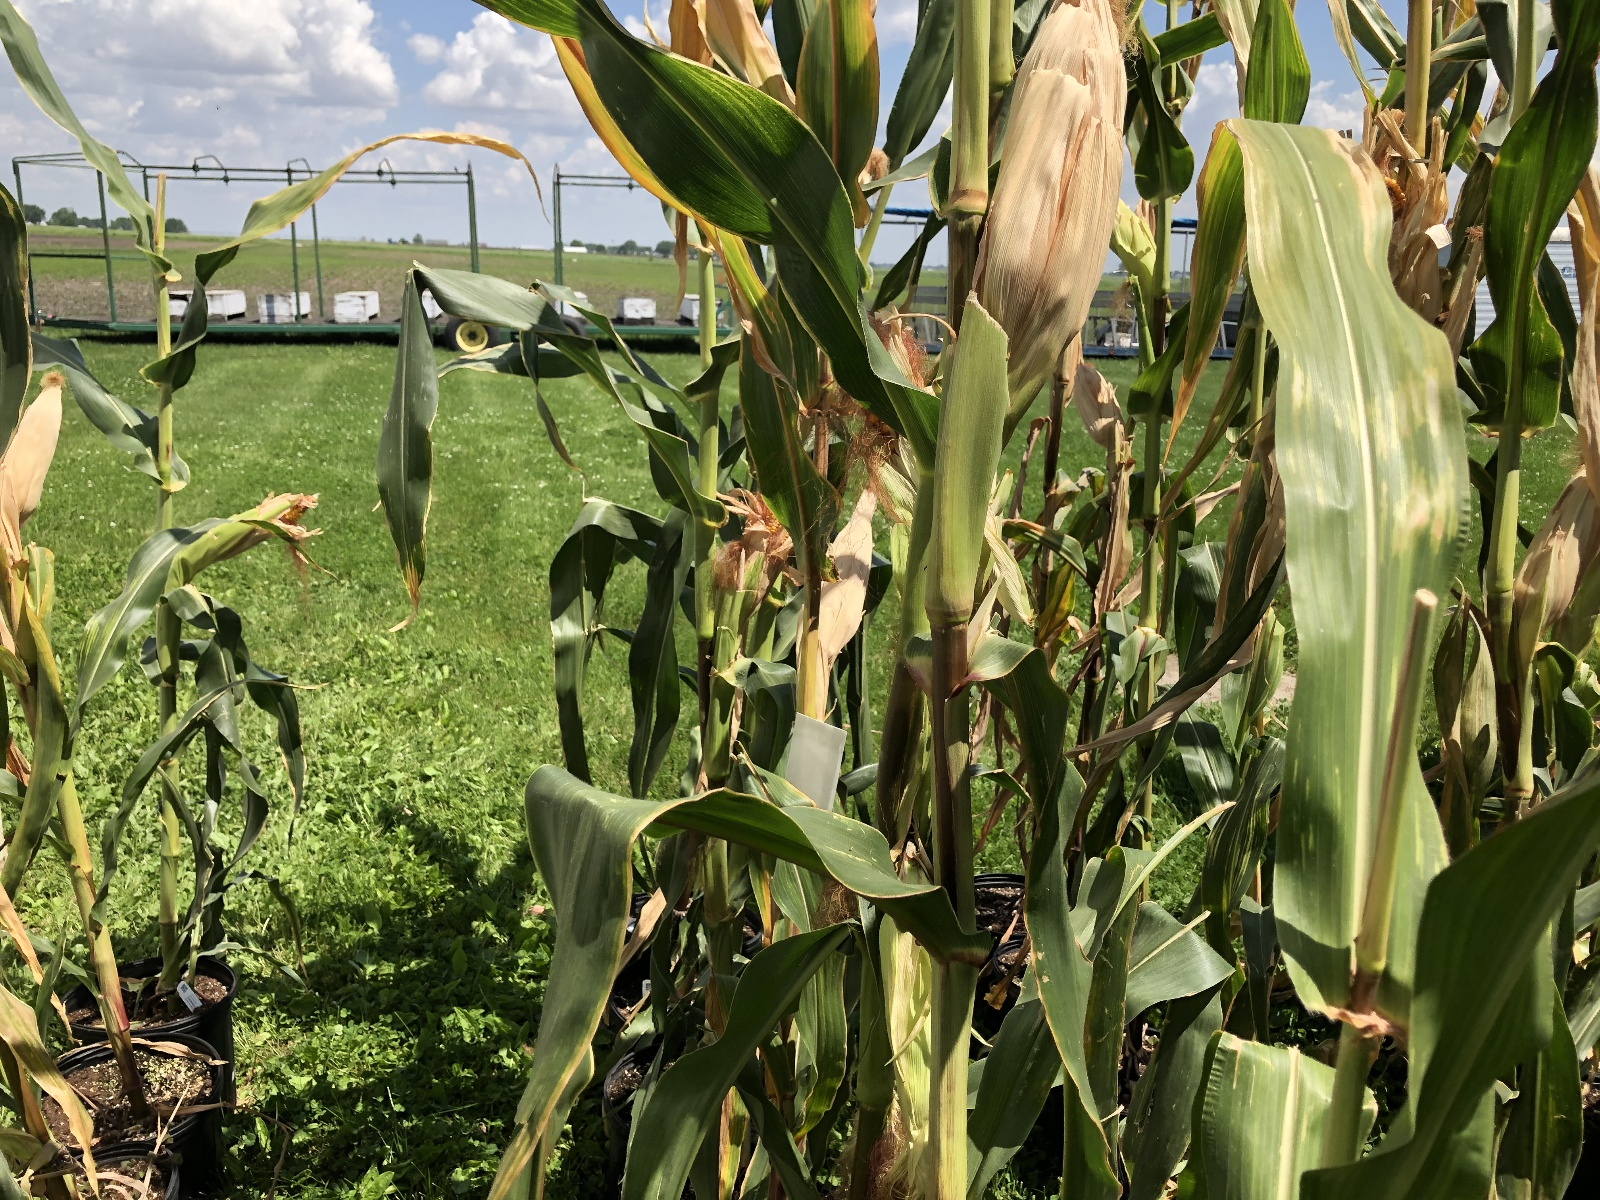ear: (976, 4, 1129, 344), (169, 487, 328, 575), (4, 366, 74, 517), (821, 468, 876, 652), (727, 471, 784, 600), (1109, 187, 1157, 284), (1373, 165, 1414, 223)
